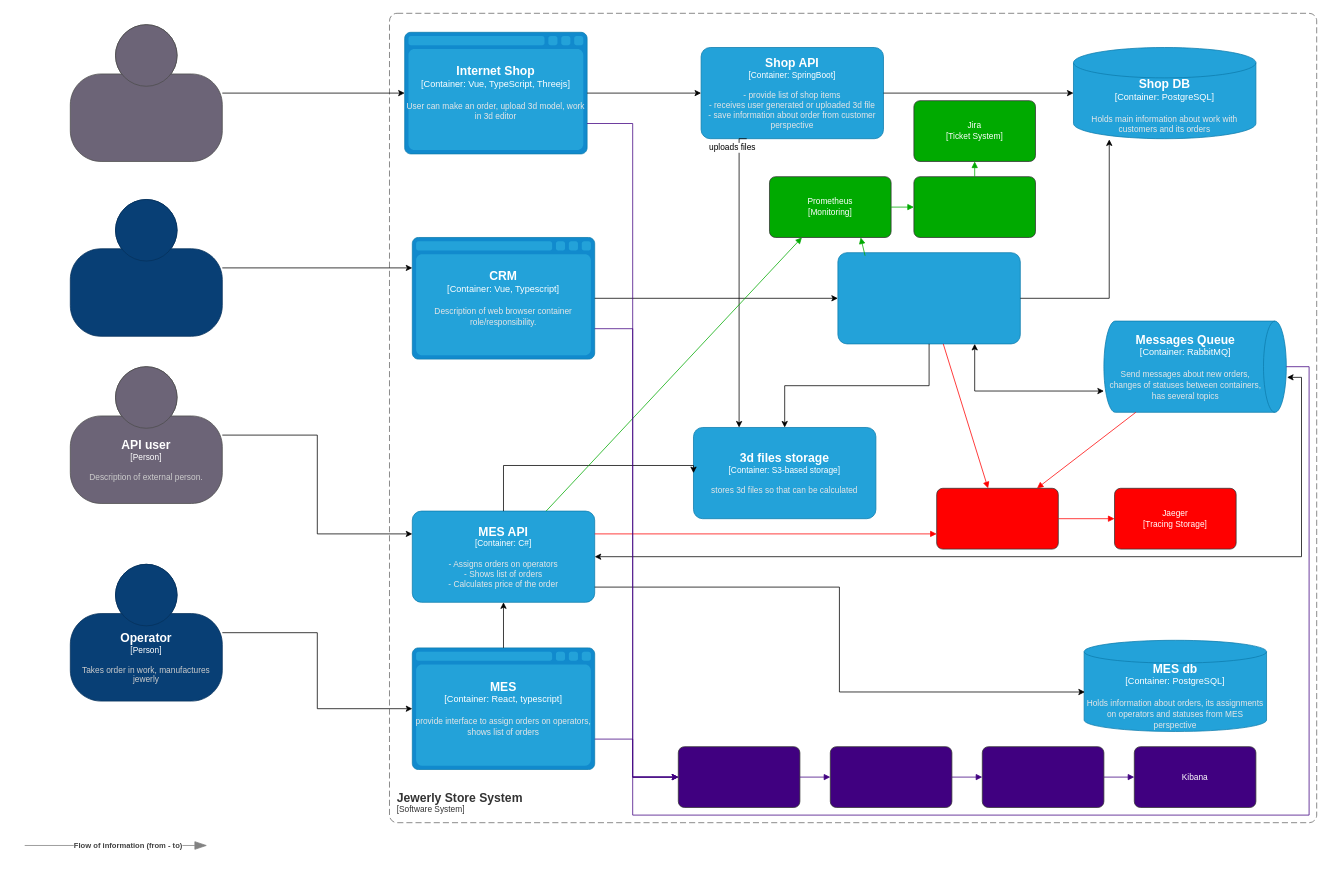
This 1330x871 diagram has some shape labels left out. Each missing label, with the centre of its shape:
CRM API [Container: SpringBoot] Description of container role/responsibility.: [928,298]
Customer [Person] Description of external person.: [146,93]
Elasticsearch: [1043,777]
Filebeat: [739,777]
Grafana [Visualization]: [974,207]
Logstash: [891,777]
OpenTelemetry [SDK]: [997,518]
Seller [Person] Operates with order, confirms manufacturing for the user: [146,267]
